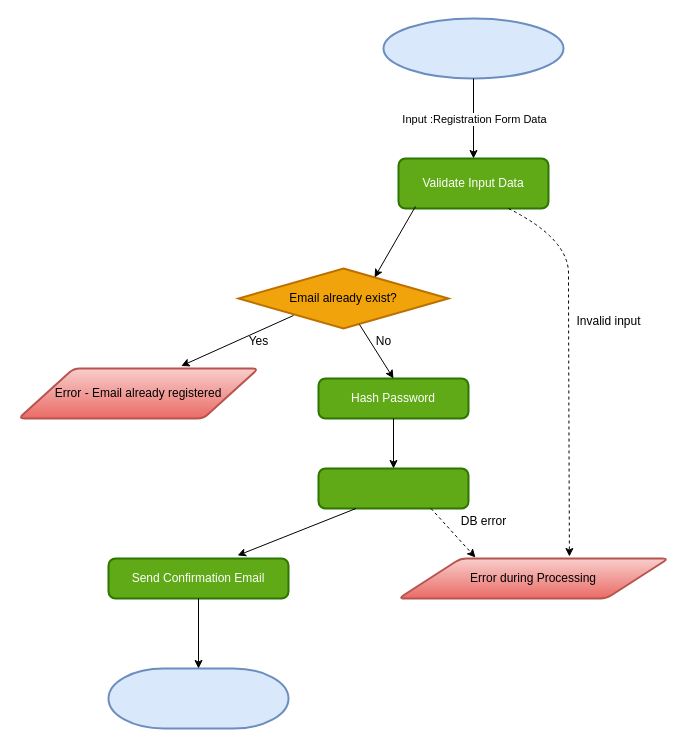
This 686x746 diagram has some shape labels left out. Each missing label, with the centre of its shape:
"Registration Successful" belongs at (198,698).
"Store User Data in DB" belongs at (393,488).
"User Initiates Registration" belongs at (473,48).
